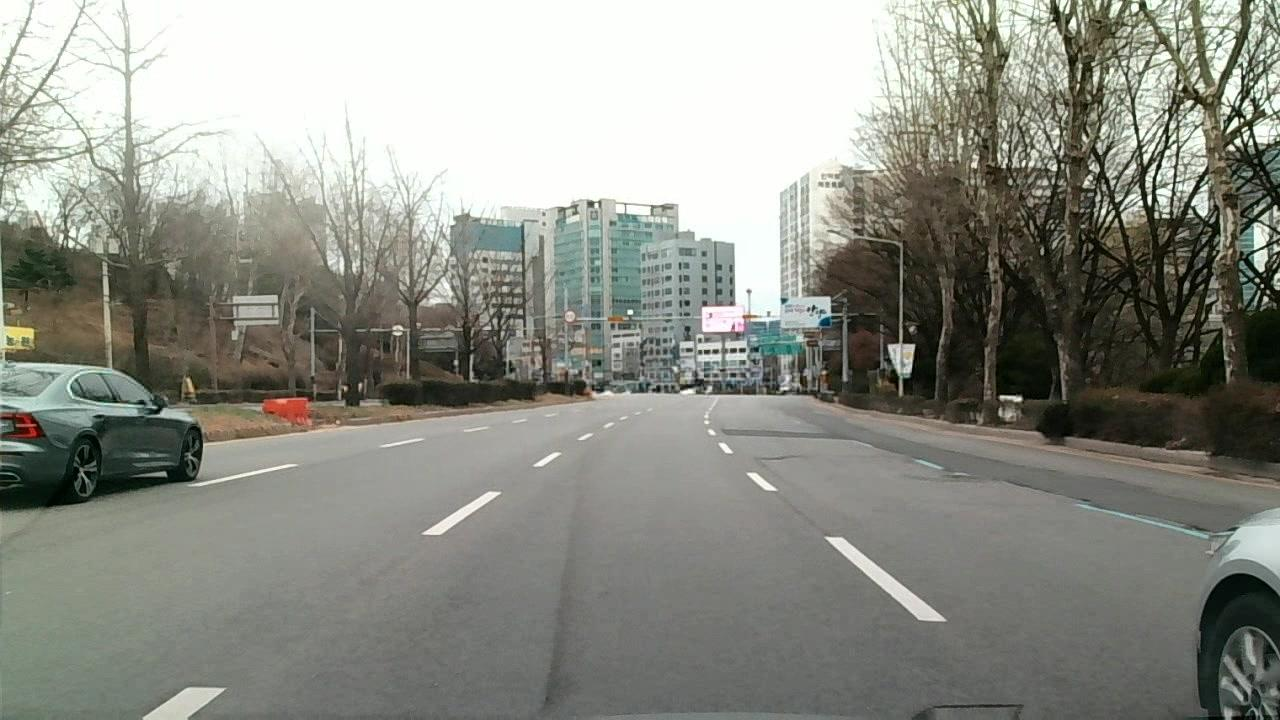vcrack: (1024, 480, 1218, 535)
